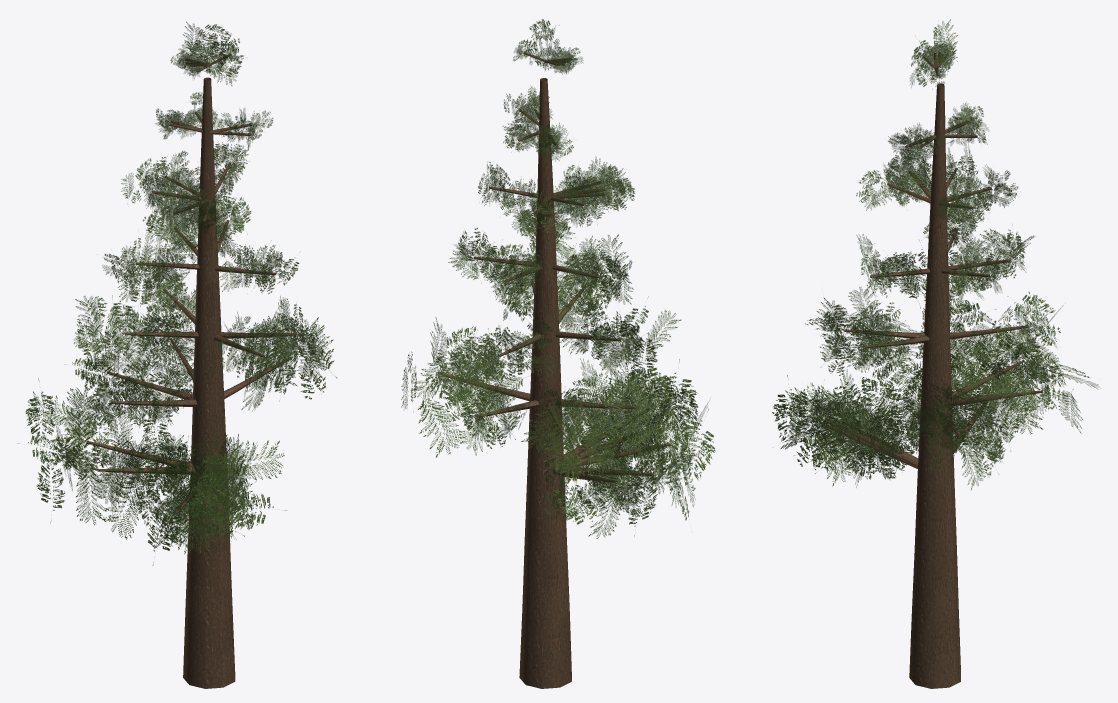
Rendered from pine_1.glb.
3 renders of one model, left to right at view 1: azimuth 30°, elevation 25°; view 2: azimuth 150°, elevation 25°; view 3: azimuth 270°, elevation 25°, orthographic.
Visible parts, largest first — view 1: pine; view 2: pine; view 3: pine.
Boxes of the visible parts, <box> form: pine: <box>17,21,336,688</box>; pine: <box>401,19,715,688</box>; pine: <box>772,19,1099,688</box>.
Size of the model in its own units: 5.37 by 11.41 by 5.47.
2 materials, 2 textured.
